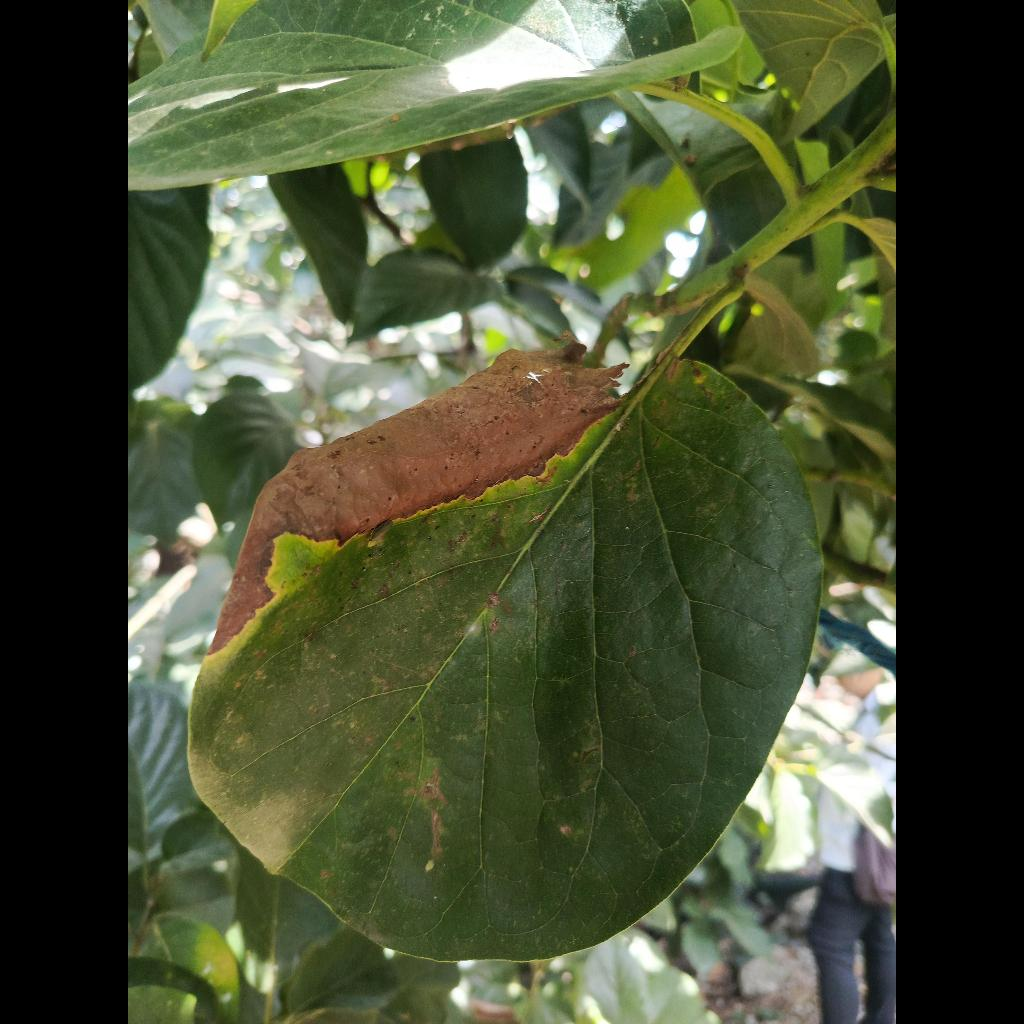Anthracnose: (188, 342, 822, 961)
